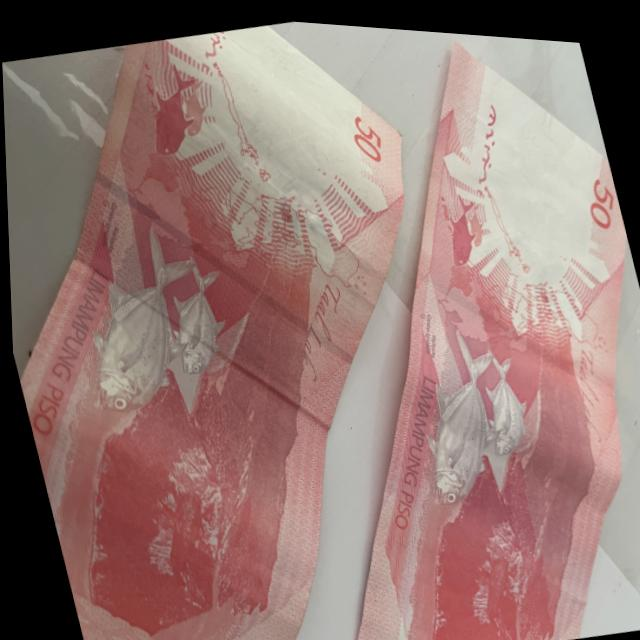50_maliputo: (55, 211, 253, 431), (391, 317, 552, 520)
50_maliputo_watermark: (129, 52, 225, 162), (420, 171, 497, 269)
